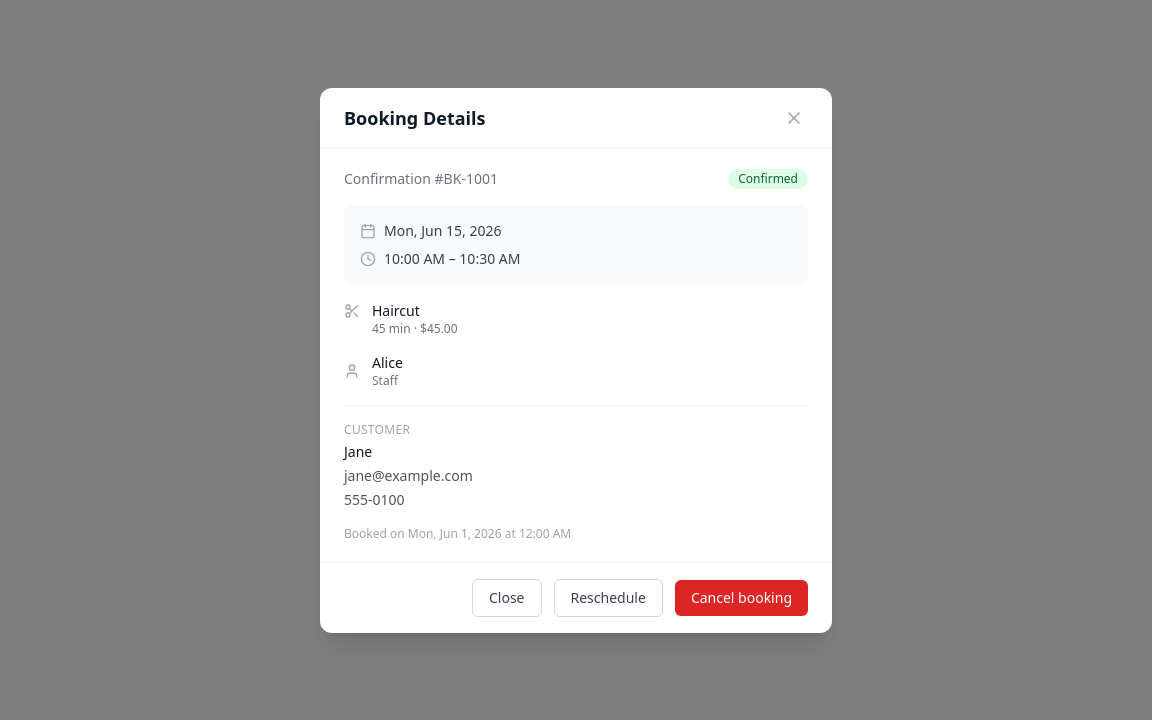
Test: BookingDetailModal › shows cancel confirmation when Cancel booking is clicked
Click the button "Cancel booking". click: (741, 598)
box: [675,580,808,616]
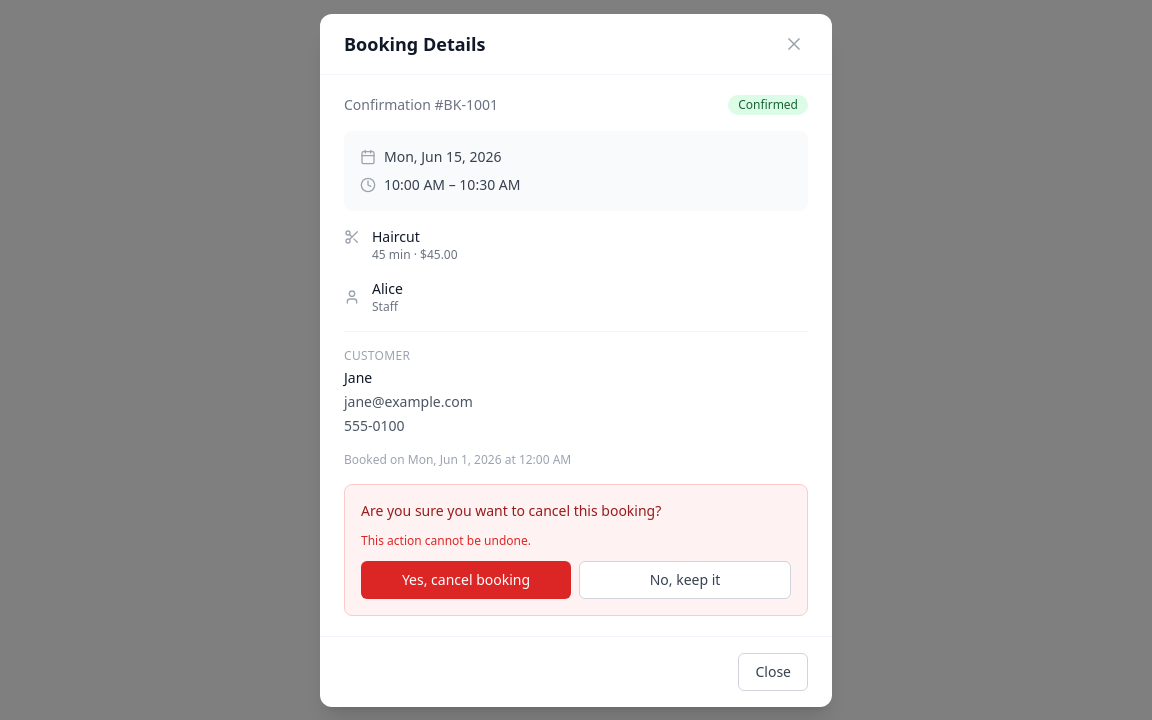
Expected: the text "Are you sure you want to cancel this booking?" is shown, [361,500,661,520]
